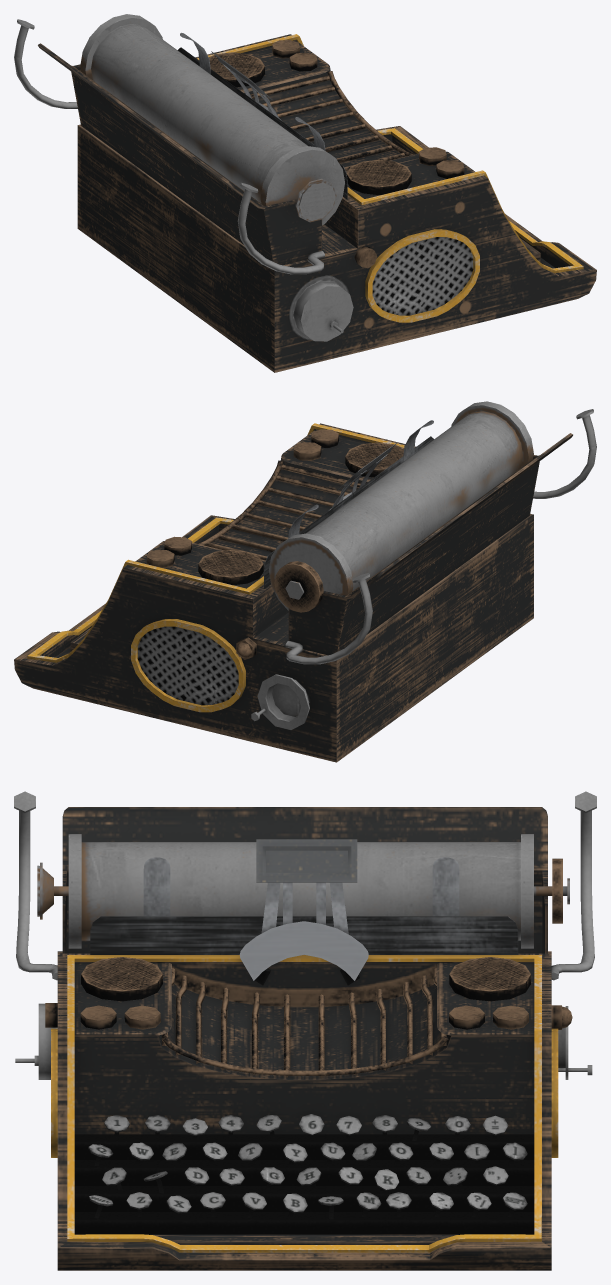
File: obj_typewriter_22536e.glb
3 views of the same model, one above another, from view 1: azimuth 30°, elevation 25°; view 2: azimuth 150°, elevation 25°; view 3: azimuth 270°, elevation 25° (orthographic). The views are drawn at different scales.
Visible parts, largest first — view 1: obj_typewriter_22536e; view 2: obj_typewriter_22536e; view 3: obj_typewriter_22536e.
Boxes of the visible parts, box(x1,y1,x2,y2) form: obj_typewriter_22536e: box(14, 14, 596, 372); obj_typewriter_22536e: box(14, 401, 596, 762); obj_typewriter_22536e: box(14, 791, 596, 1270).
Size of the model in its own units: 0.4155 by 0.2356 by 0.45.
1 material, 1 textured.
